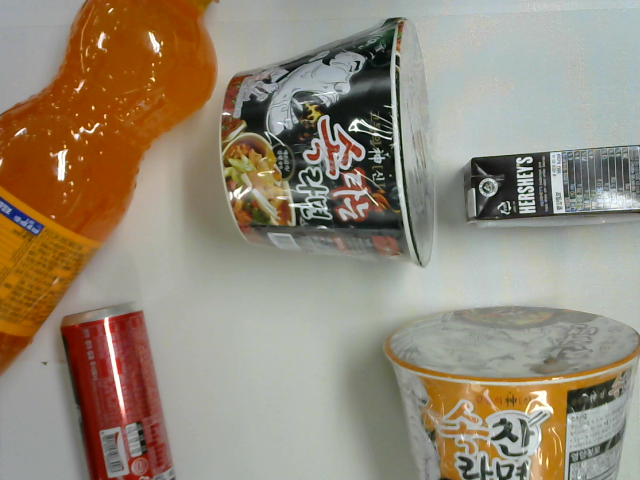Coca_Cola_Zero_Can_250ml: (56, 299, 176, 480)
HeJangsock: (216, 17, 438, 270)
Hejangchan: (380, 298, 640, 479)
Hush_Choco_Drink: (466, 142, 640, 233)
Hwanta_Orange_1.5L: (1, 1, 221, 381)
